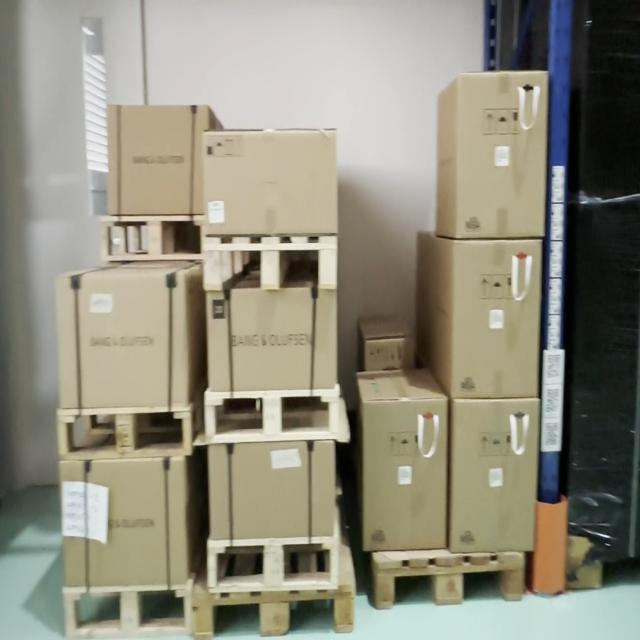box: (569, 1, 639, 539), (61, 278, 184, 408), (65, 460, 184, 585), (458, 72, 544, 236), (204, 132, 338, 234), (453, 241, 537, 395), (210, 292, 337, 391), (365, 400, 448, 550), (455, 401, 534, 550), (211, 445, 333, 536), (108, 105, 202, 213)
